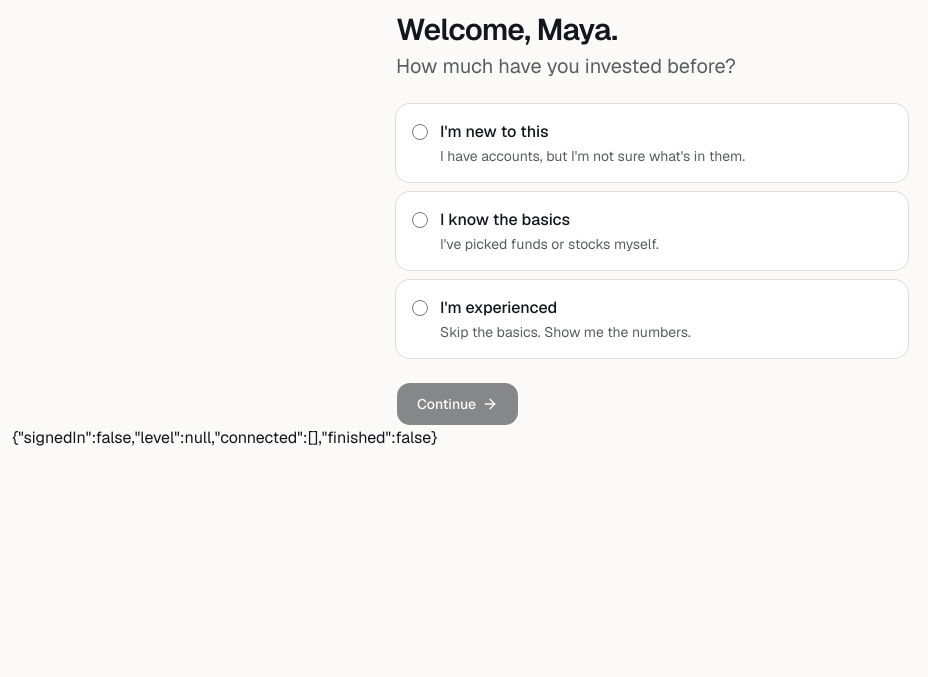
Test: Onboarding › goes straight to the numbers for experienced investors
Click the radio button labelled "I'm experienced Skip the basics. Show me the numbers.". click: (420, 308)
box: x1=412 y1=300 x2=428 y2=316
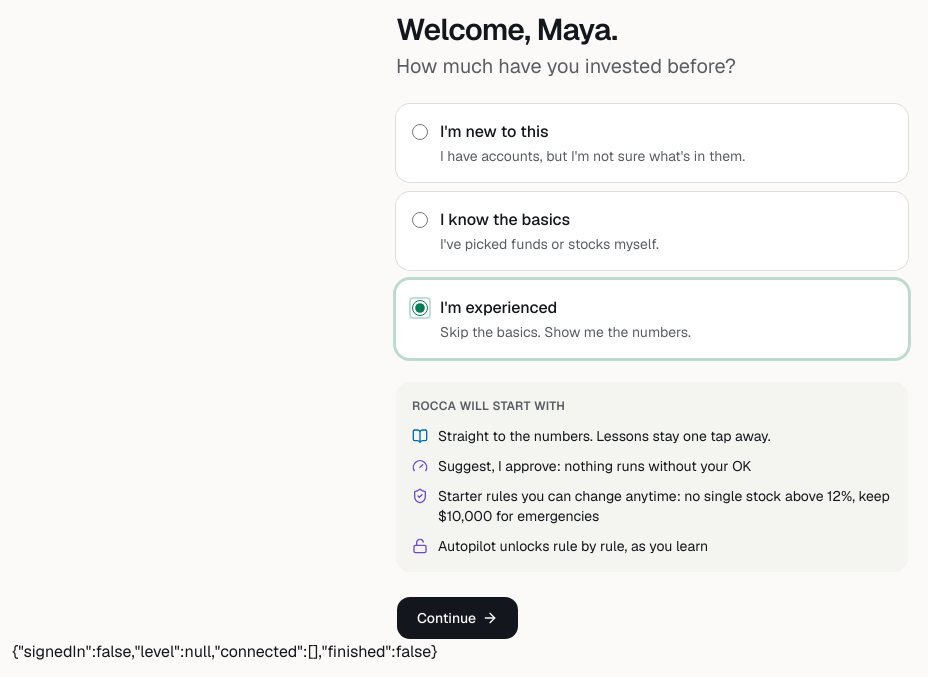
Result: the text "Straight to the numbers. Lessons stay one tap away." is shown at x1=438 y1=426 x2=770 y2=446
